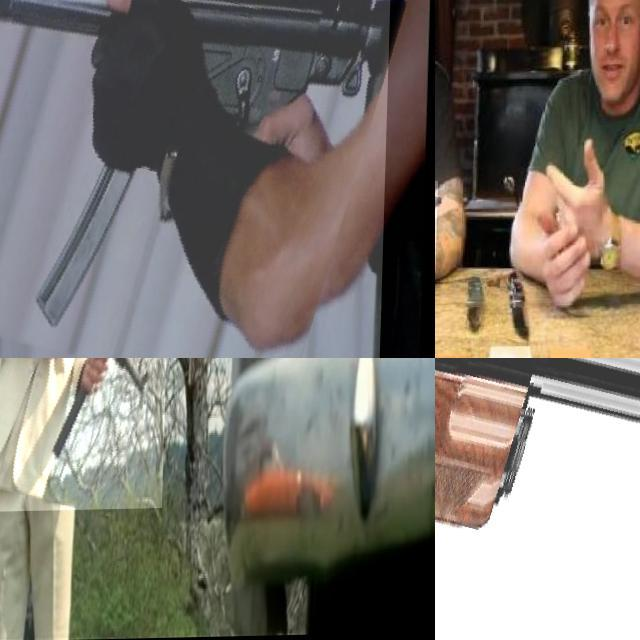-: (435, 182, 483, 273)
gun-knife-thesis - v11 Yolov5 augmented: (0, 0, 394, 358), (435, 358, 640, 640), (0, 358, 171, 512)
